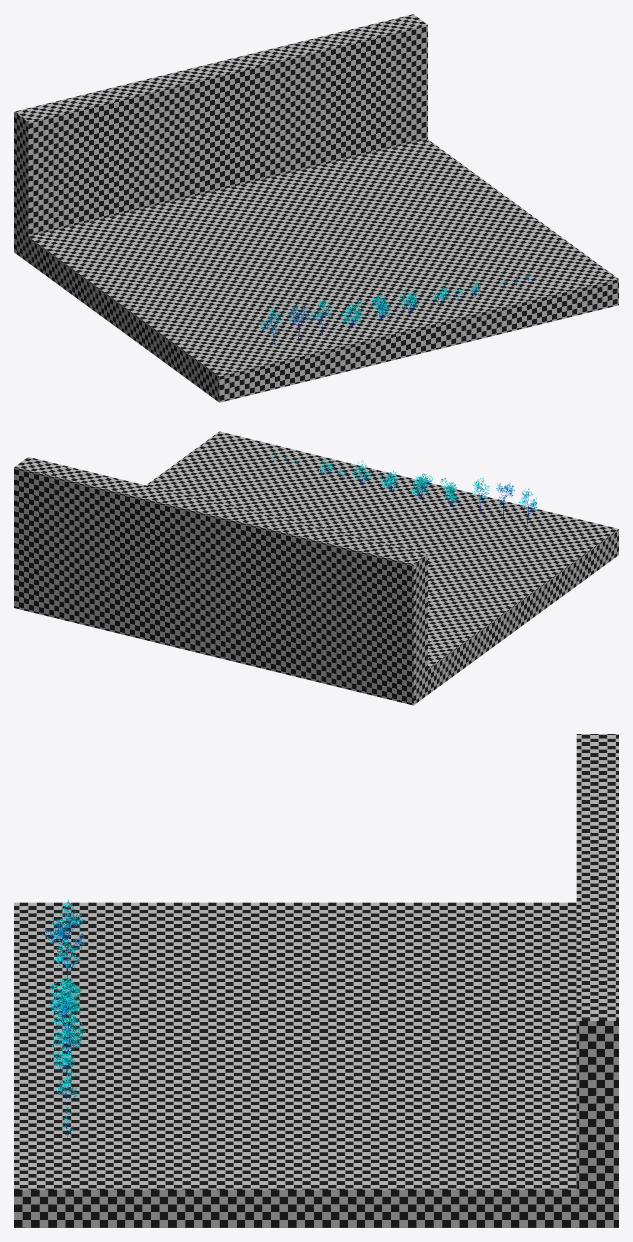
The model's file is Lilac bush pack.fbx.
3 renders of one model, top to bottom at view 1: azimuth 30°, elevation 25°; view 2: azimuth 150°, elevation 25°; view 3: azimuth 270°, elevation 25°, orthographic. The views are drawn at different scales.
Visible parts, largest first — view 1: Plane; view 2: Plane; view 3: Plane, Lilac_bush_2_LOD0.
Boxes of the visible parts, <box> form: Plane: <box>14,14,618,402</box>; Plane: <box>14,431,618,705</box>; Plane: <box>14,734,618,1227</box>; Lilac_bush_2_LOD0: <box>49,993,82,1031</box>.
Size of what is drawn, in the model's own units: 8000 by 2691 by 7128.
